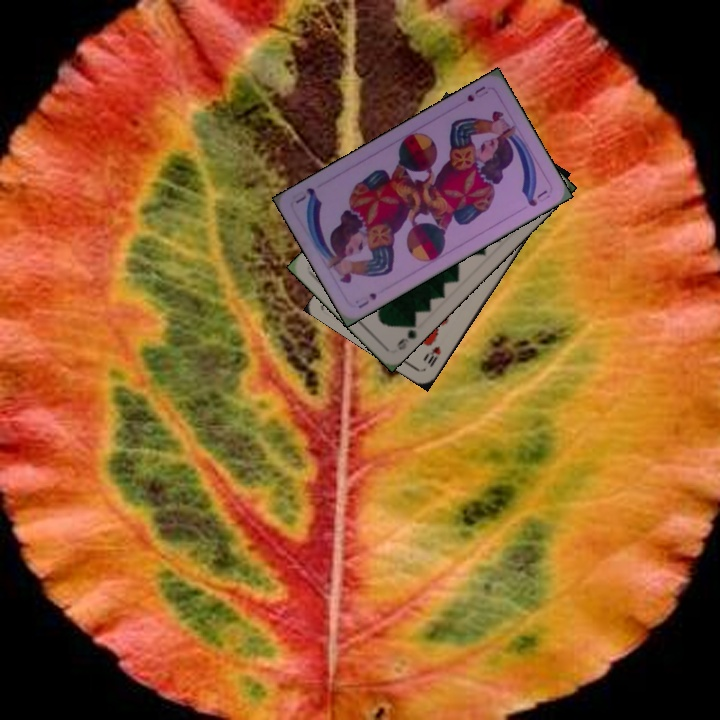G9: (393, 317, 419, 353)
H10: (419, 342, 444, 370)
SU: (463, 82, 491, 105), (354, 289, 379, 311)
